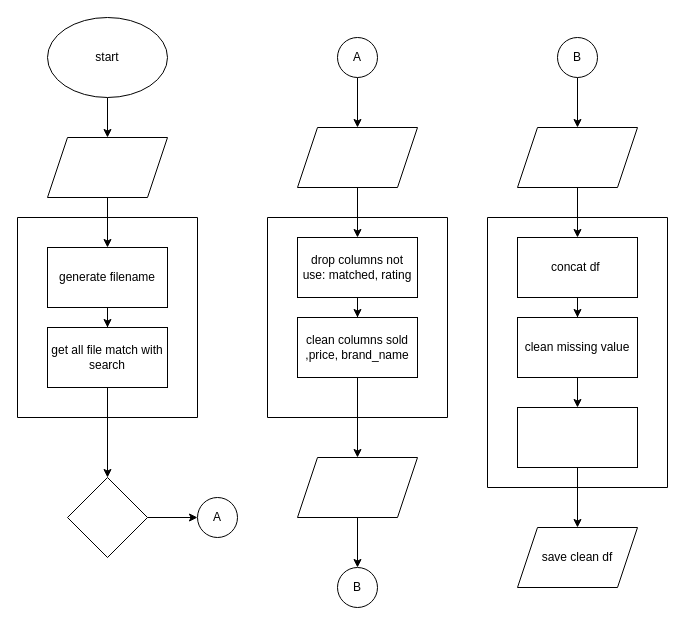
This 685x625 diagram has some shape labels left out. Each missing label, with the centre of its shape:
all clean df: (x=577, y=157)
clean df: (x=357, y=487)
drop duplicate: (x=577, y=437)
file name: (x=357, y=157)
input keyword search: (x=107, y=167)
loop files: (x=107, y=517)
